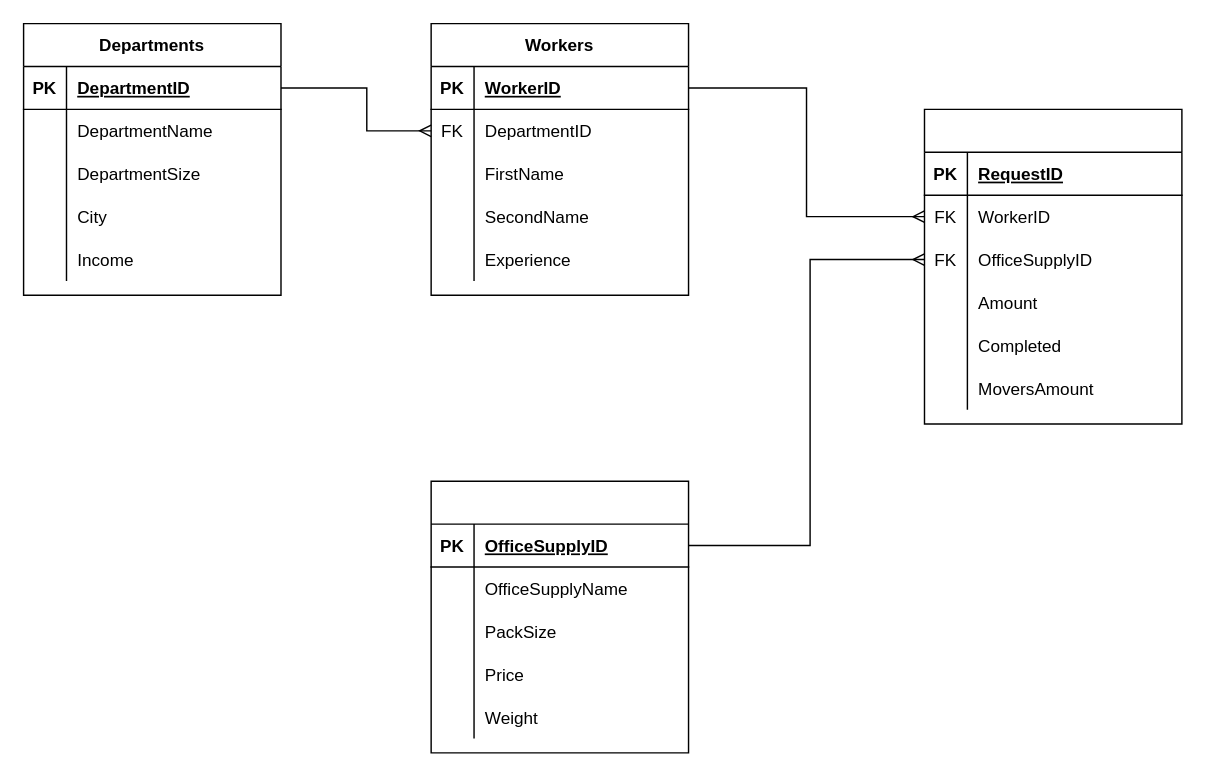
Some shapes in this 1205 by 776 pixel diagram are drawn without their labels. Here are the shapes that lost their labels. From the top down, the box of each, then its label:
(923, 108, 1182, 424): Requests
(430, 480, 689, 753): OfficeSupplies
